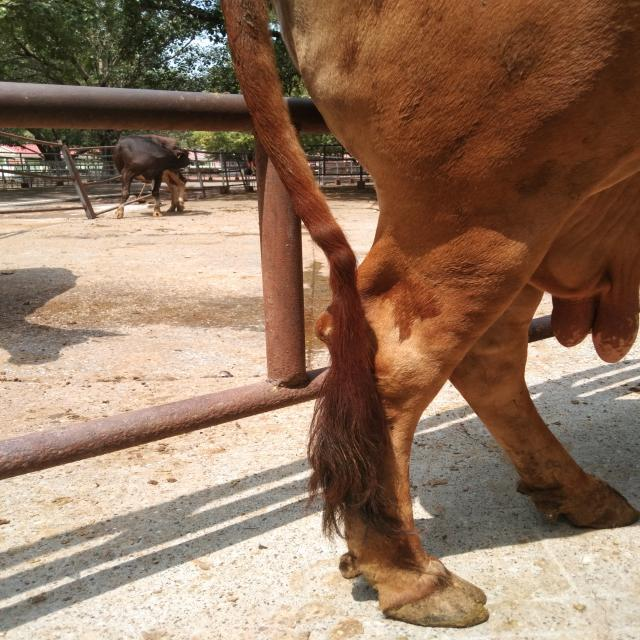Hoof: (377, 567, 490, 628)
